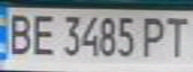3: (57, 11, 81, 57)
4: (78, 12, 103, 59)
5: (115, 12, 142, 59)
8: (96, 14, 121, 58)
B: (3, 10, 36, 56)
E: (27, 11, 60, 57)
P: (139, 12, 172, 60)
T: (160, 12, 193, 60)
